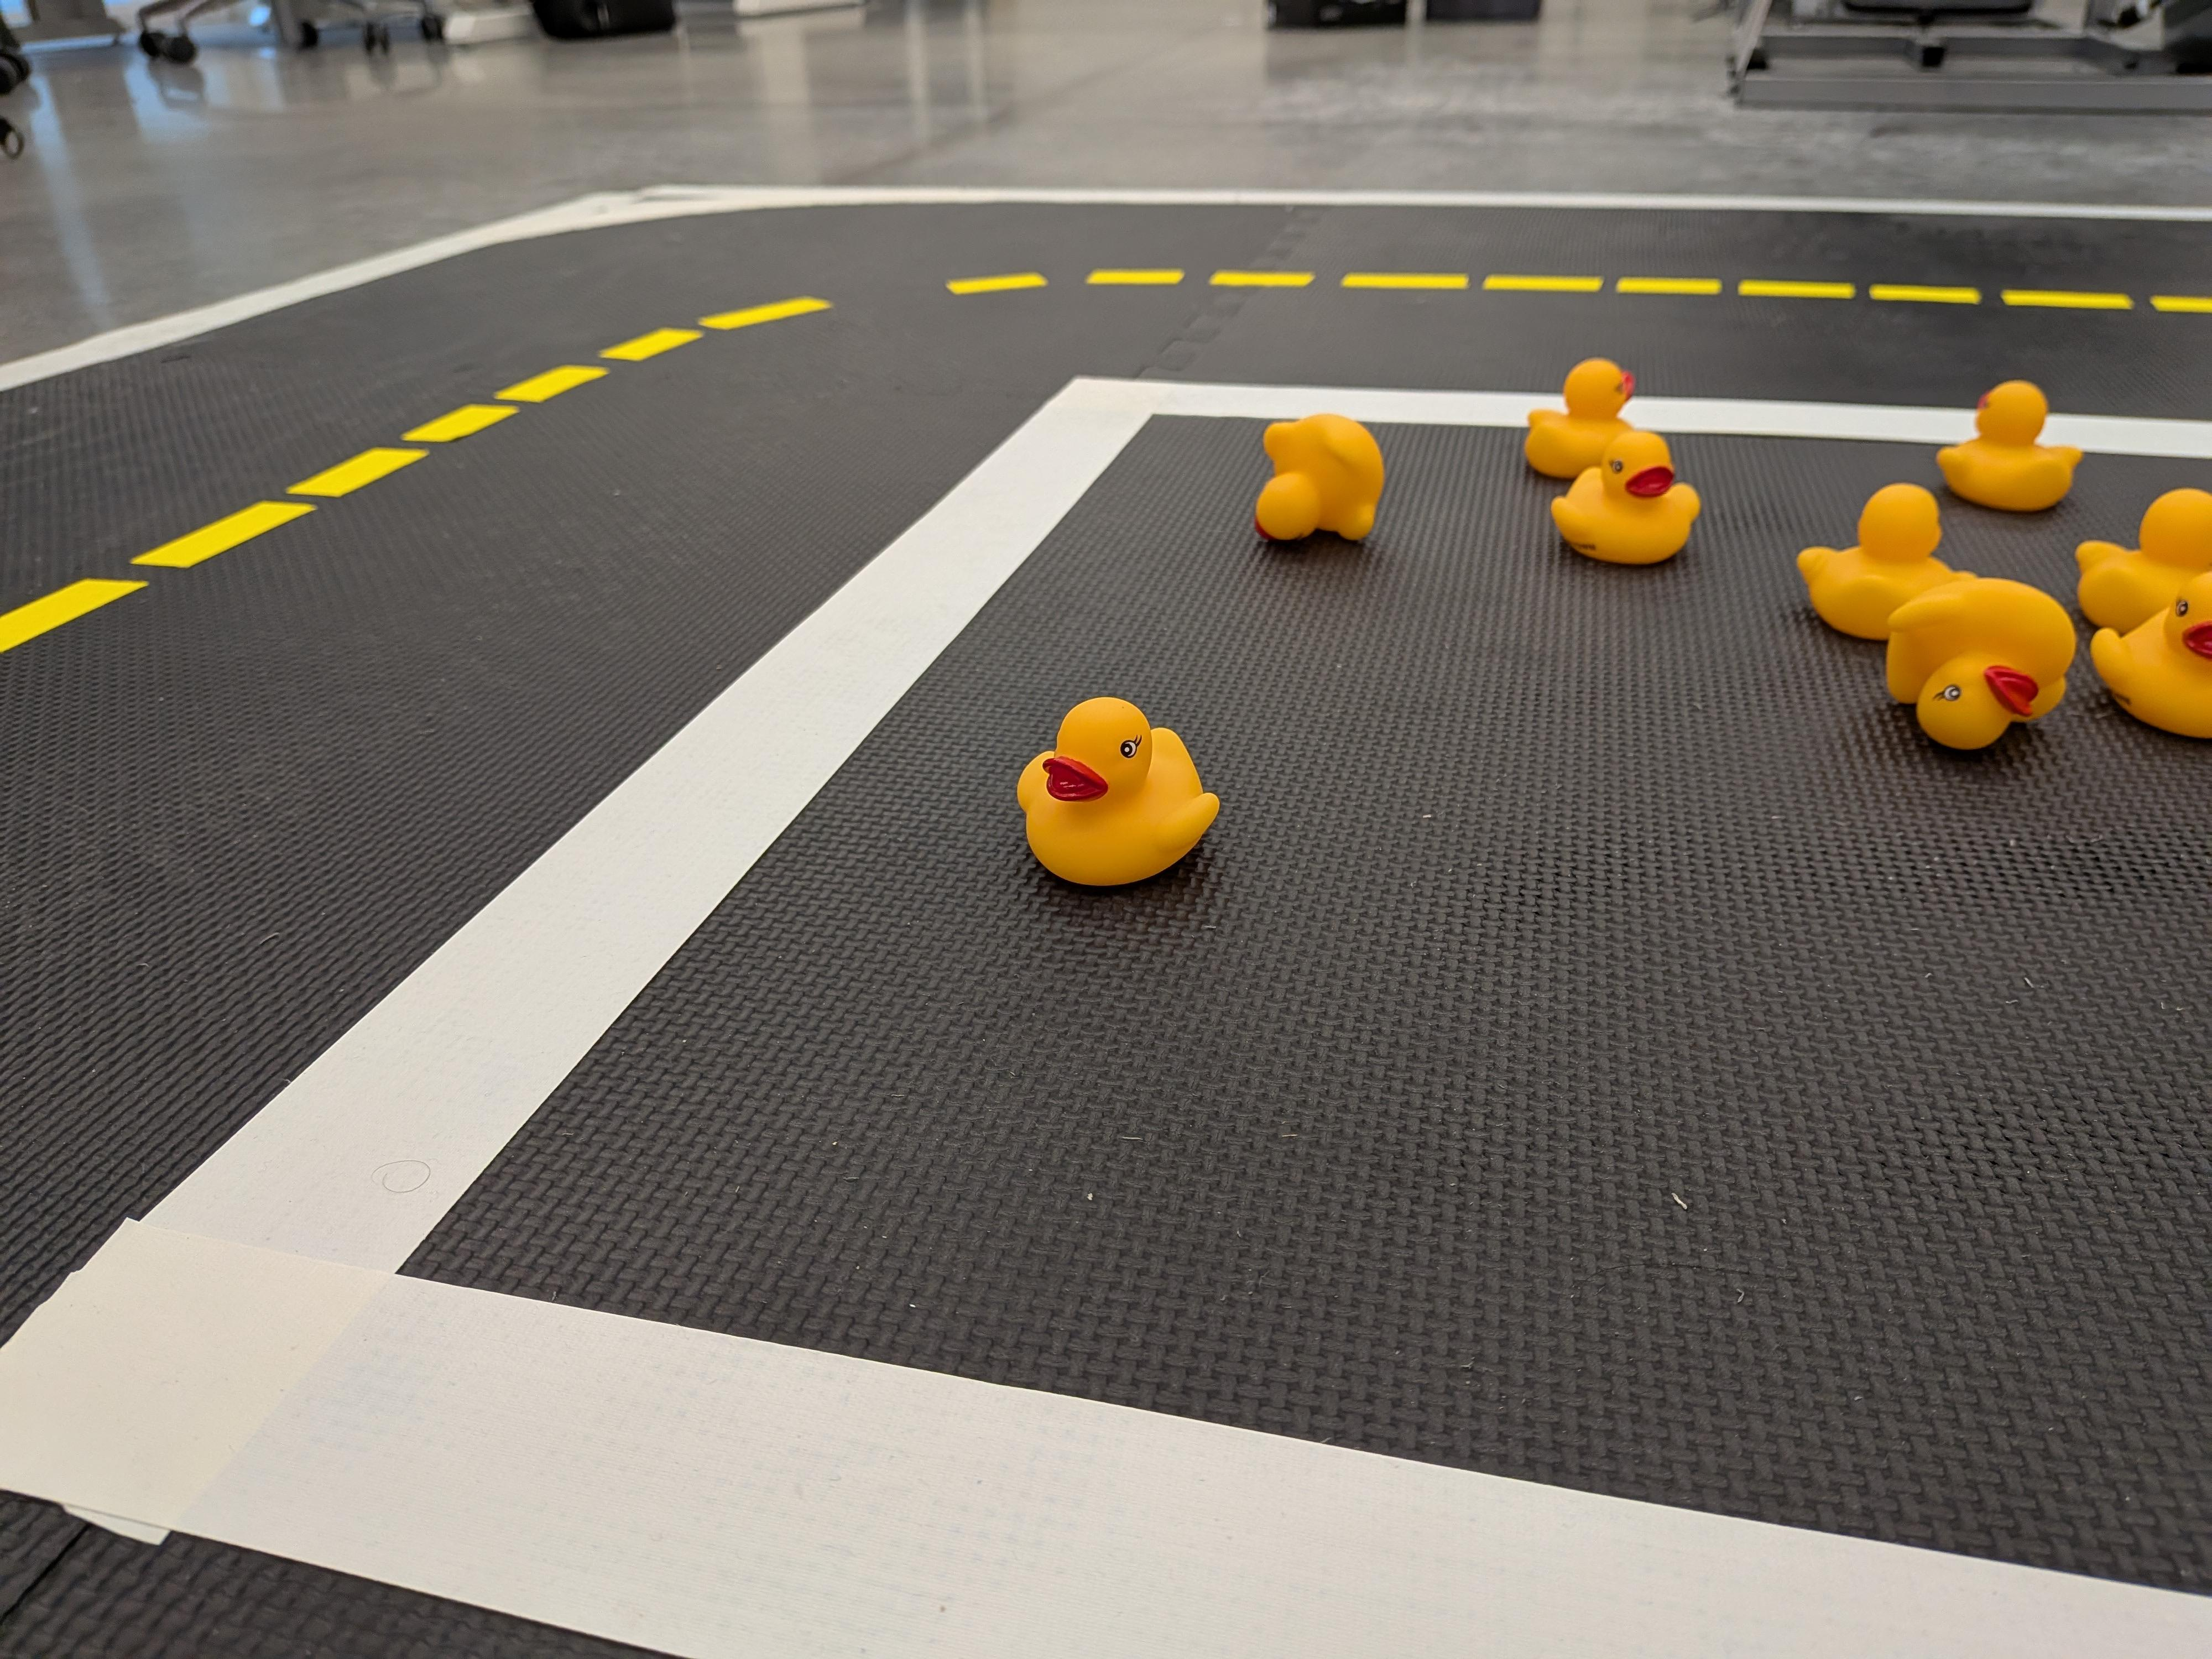peasant: (1021, 688, 1221, 899), (1883, 575, 2078, 755), (1796, 476, 1984, 657), (1529, 429, 1709, 579), (2094, 568, 2212, 758), (1930, 376, 2087, 519), (2067, 481, 2212, 633), (1254, 408, 1386, 559), (1517, 350, 1649, 484)
whiteline: (0, 371, 1153, 1549), (5, 1220, 2212, 1659), (0, 183, 637, 404), (1069, 364, 2212, 458), (644, 179, 2212, 227)
yellowline: (0, 289, 827, 648), (946, 267, 2212, 315)
